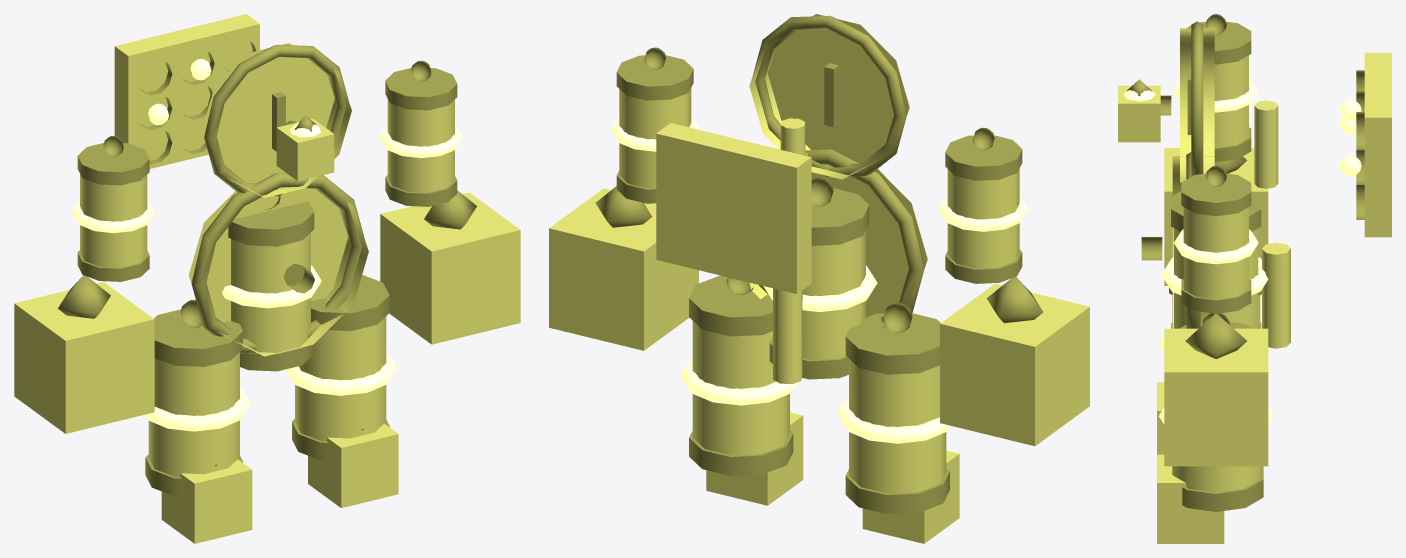
Rendered from golem_112.glb.
The picture shows the model from 3 angles, left to right: view 1: azimuth 30°, elevation 25°; view 2: azimuth 150°, elevation 25°; view 3: azimuth 270°, elevation 25°; orthographic projection. The views are drawn at different scales.
Parts seen in each view (by area): view 1: Body, Detail, Glow; view 2: Body, Detail, Glow; view 3: Body, Detail, Glow.
Boxes of the visible parts, x1,y1,x2,y2 form: Body: [14, 14, 520, 543]; Detail: [58, 41, 476, 496]; Glow: [72, 59, 462, 431]; Body: [549, 14, 1089, 543]; Detail: [595, 15, 1043, 513]; Glow: [610, 115, 1028, 443]; Body: [1118, 28, 1391, 543]; Detail: [1127, 14, 1364, 511]; Glow: [1123, 77, 1361, 424].
Bounding box in the file's own units: 1.45 × 1.4 × 0.7501.
